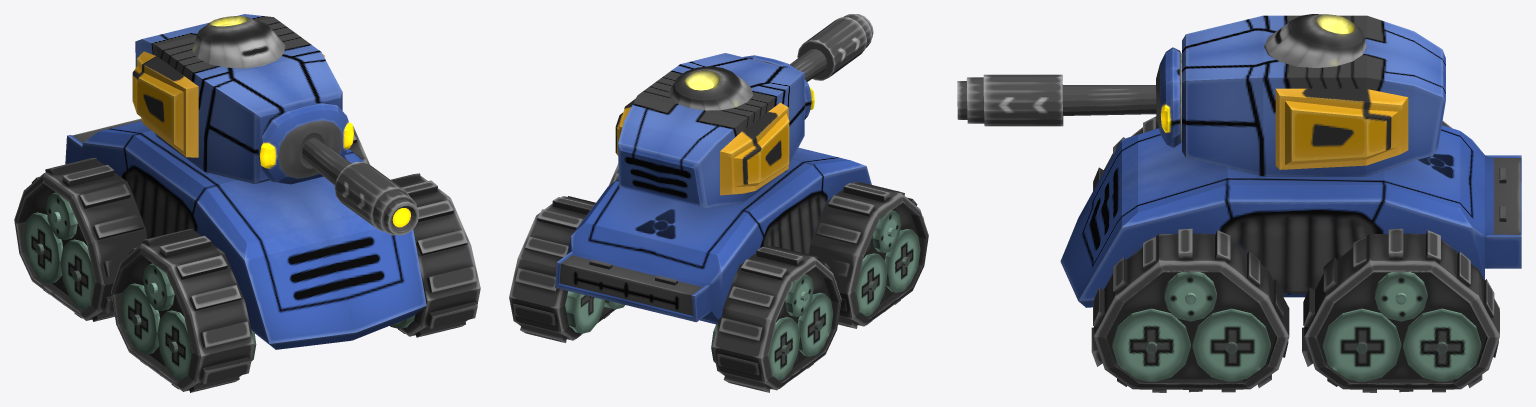
File: кубик 1.fbx
3 renders of one model, left to right at view 1: azimuth 30°, elevation 25°; view 2: azimuth 150°, elevation 25°; view 3: azimuth 270°, elevation 25°, orthographic. The views are drawn at different scales.
Parts seen in each view (by area): view 1: Tanque, Tanque.001; view 2: Tanque, Tanque.001; view 3: Tanque, Tanque.001.
Boxes of the visible parts, box(x1,y1,x2,y2) form: Tanque: box(14, 118, 480, 392); Tanque.001: box(132, 14, 419, 235); Tanque: box(509, 147, 928, 392); Tanque.001: box(615, 14, 873, 208); Tanque: box(1060, 116, 1521, 392); Tanque.001: box(957, 14, 1445, 176).
Bounding box in the file's own units: 322 × 294 × 501.
